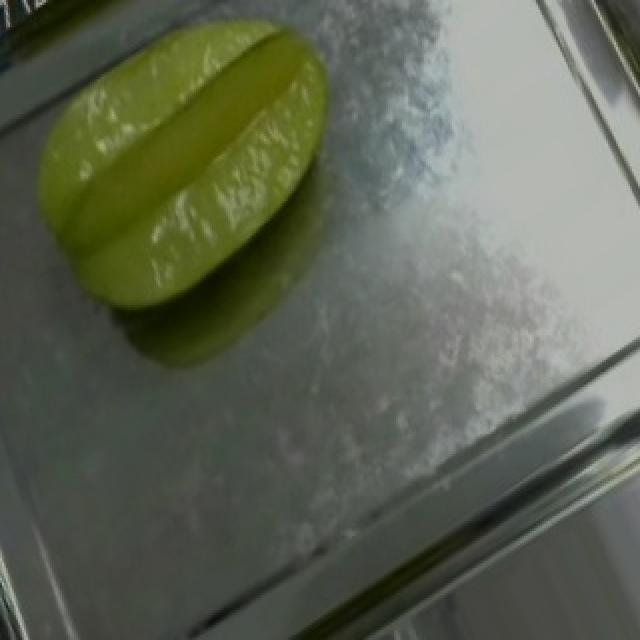fruit: (0, 0, 378, 350)
